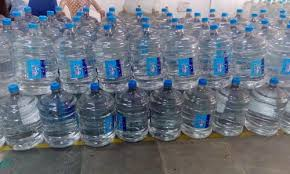plastic: (48, 98, 82, 146), (19, 41, 52, 86), (157, 94, 188, 138), (11, 92, 37, 142), (62, 42, 91, 81), (252, 90, 276, 137), (86, 104, 111, 143), (123, 102, 147, 140), (98, 47, 129, 75), (220, 90, 241, 130), (194, 90, 212, 135)
